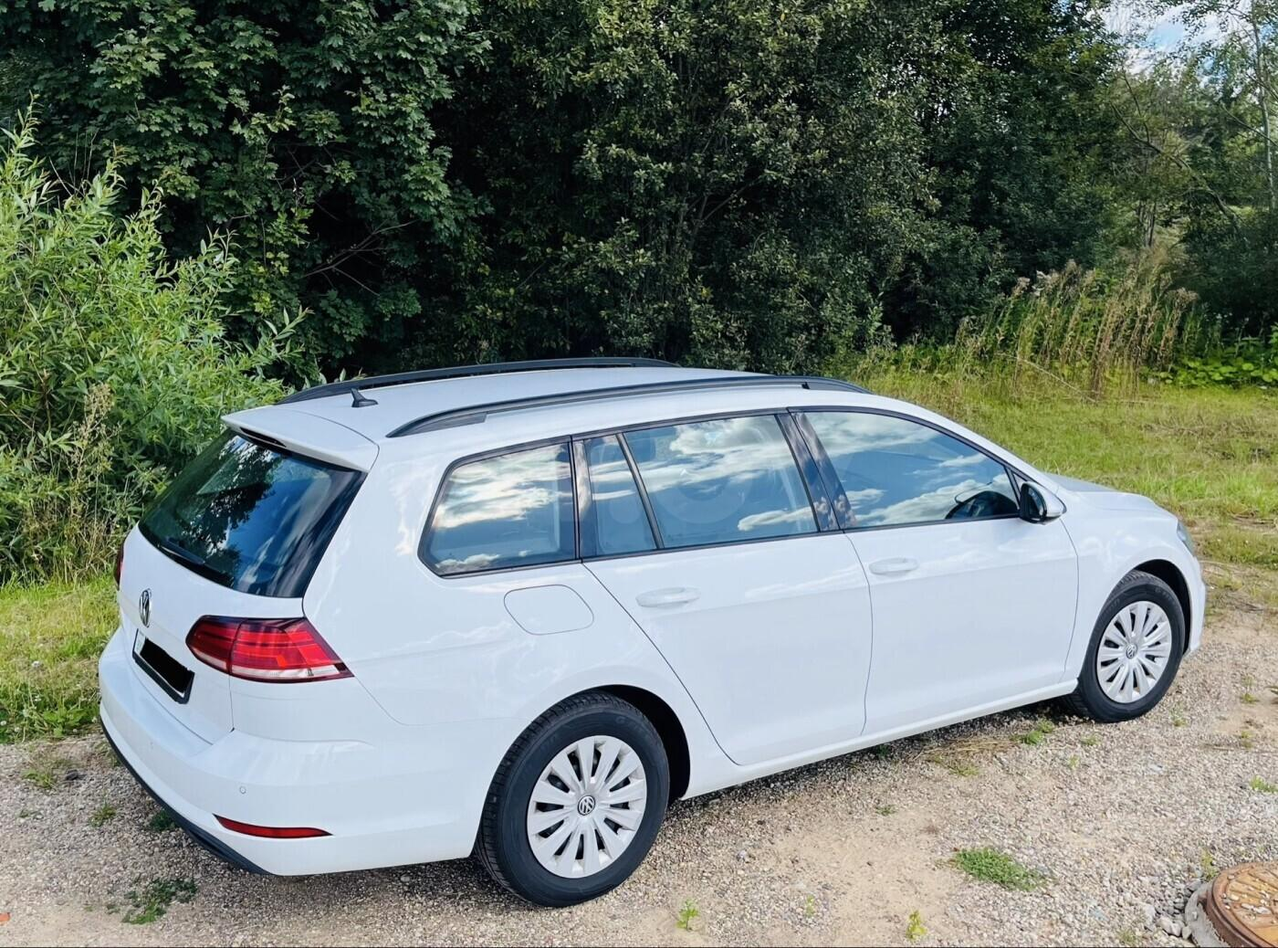Golf_2017-2021: (84, 355, 1207, 902)
